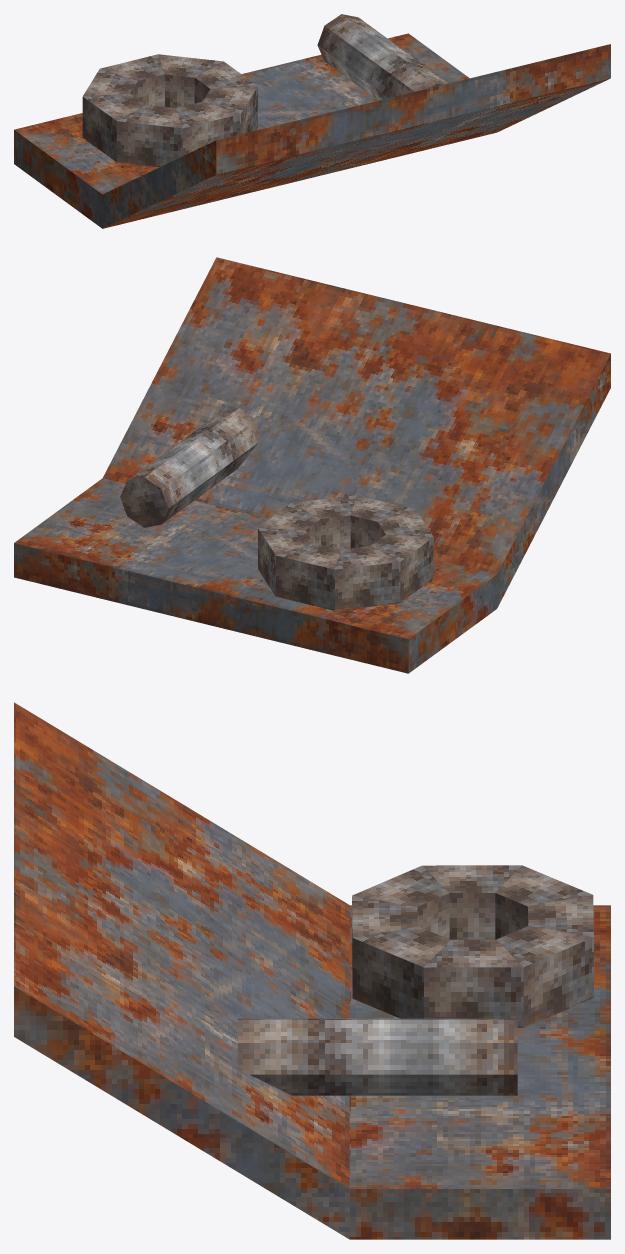
Rendered from scrap.glb.
The picture shows the model from 3 angles, top to bottom: view 1: azimuth 30°, elevation 25°; view 2: azimuth 150°, elevation 25°; view 3: azimuth 270°, elevation 25°; orthographic projection. The views are drawn at different scales.
Parts seen in each view (by area): view 1: Model; view 2: Model; view 3: Model.
Part boxes in pixels (<box>): Model: <box>14,14,610,228</box>; Model: <box>14,257,610,673</box>; Model: <box>14,702,610,1239</box>.
Bounding box in the file's own units: 0.18 × 0.075 × 0.16.
1 material, 1 textured.
